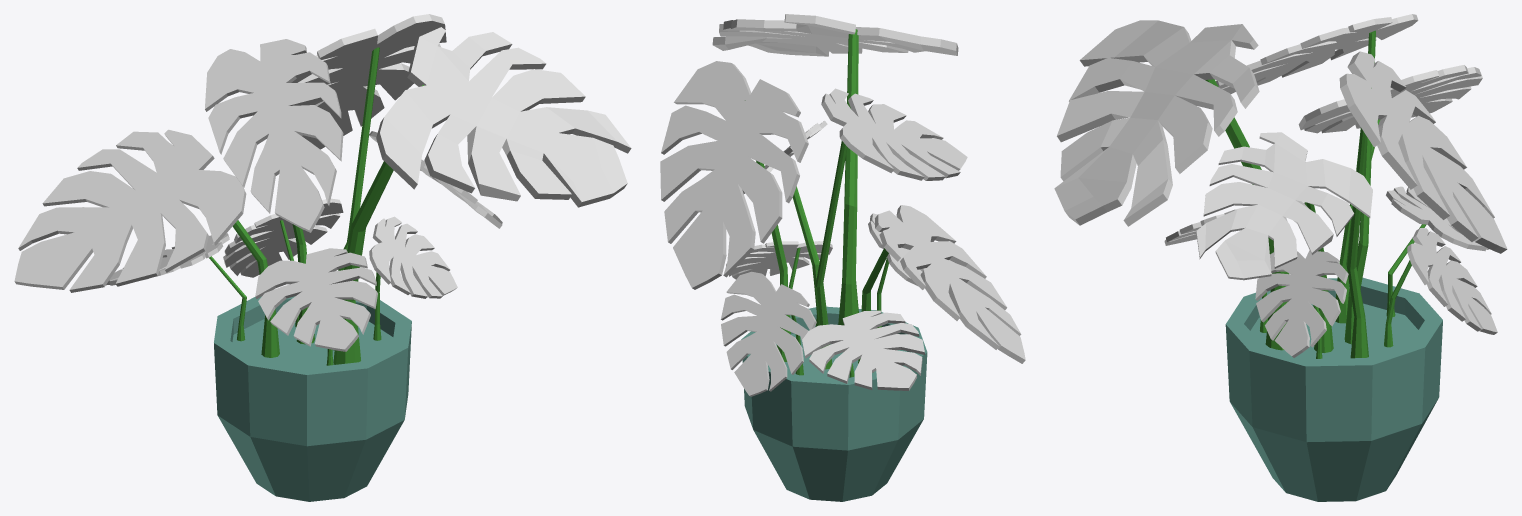
The model's file is HOUSEPLANT_V1.fbx.
The picture shows the model from 3 angles, left to right: view 1: azimuth 30°, elevation 25°; view 2: azimuth 150°, elevation 25°; view 3: azimuth 270°, elevation 25°; orthographic projection. The views are drawn at different scales.
Visible parts, largest first — view 1: Cylinder.007; view 2: Cylinder.007; view 3: Cylinder.007.
Part boxes in pixels (<box>): Cylinder.007: <box>14,14,631,501</box>; Cylinder.007: <box>660,14,1025,501</box>; Cylinder.007: <box>1054,14,1507,501</box>.
Size of the model in its own units: 467 by 432 by 365.
